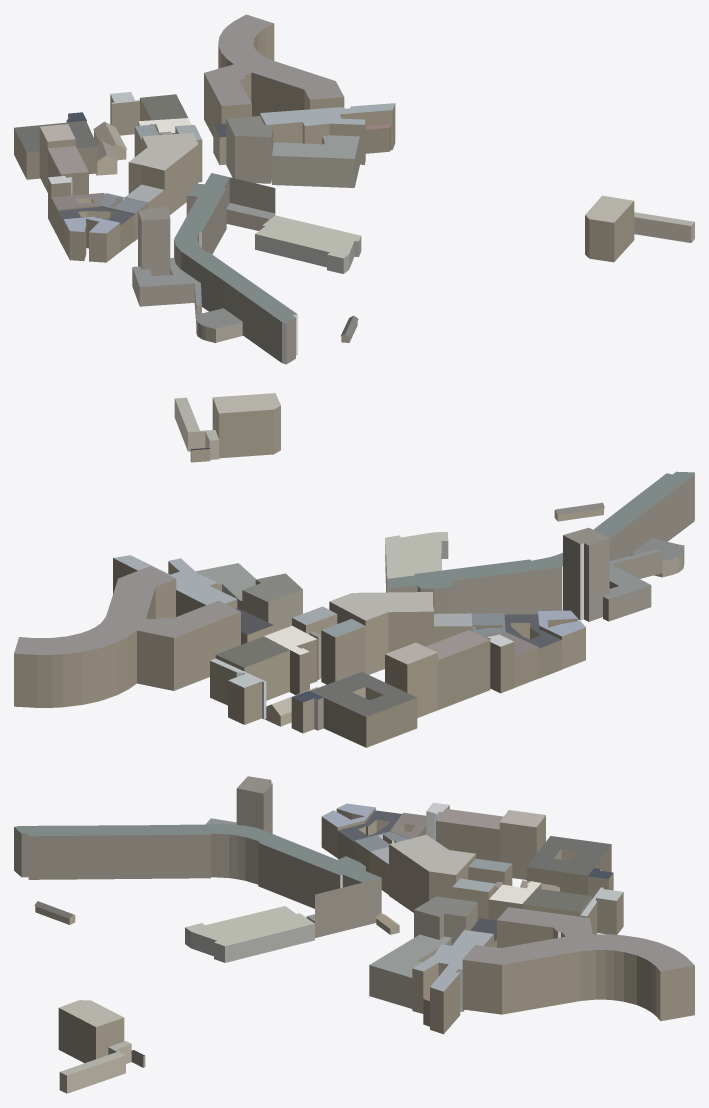
The picture shows the model from 3 angles, top to bottom: view 1: azimuth 30°, elevation 25°; view 2: azimuth 150°, elevation 25°; view 3: azimuth 270°, elevation 25°; orthographic projection. The views are drawn at different scales.
Parts seen in each view (by area): view 1: tuile; view 2: tuile; view 3: tuile.
Part boxes in pixels (left/top/right/bottom): tuile: left=14, top=14, right=694, bottom=364; tuile: left=14, top=393, right=694, bottom=747; tuile: left=14, top=776, right=694, bottom=1093.
Size of the model in its own units: 270 by 39.49 by 304.
